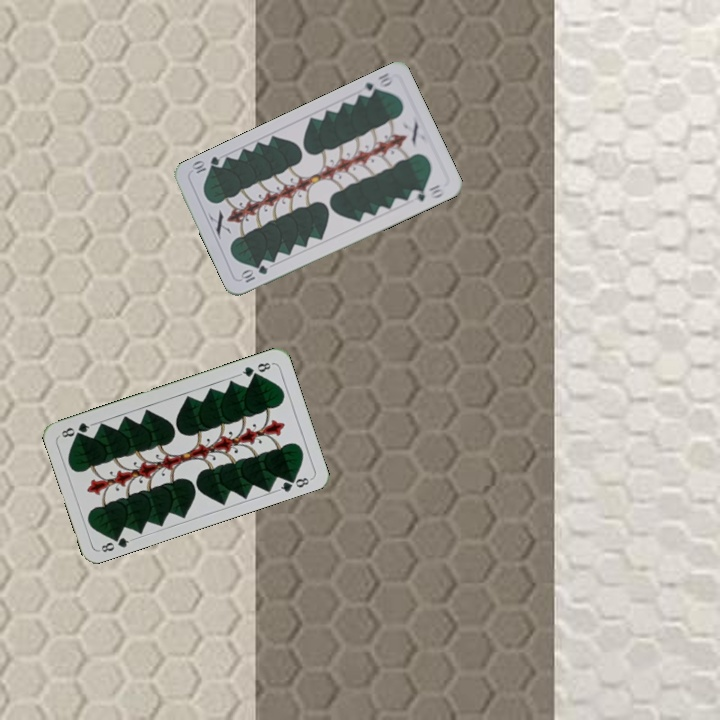G10: (356, 68, 396, 100), (237, 261, 270, 285)
G8: (97, 530, 135, 555), (236, 358, 275, 379)
